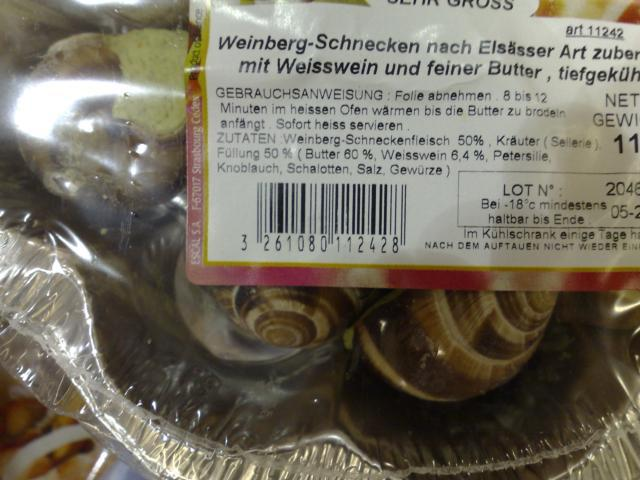Barkod: (255, 181, 407, 236)
